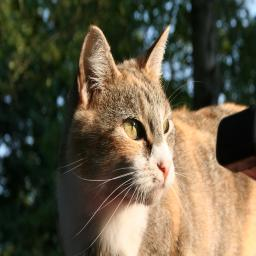catnose: (156, 158, 174, 182)
